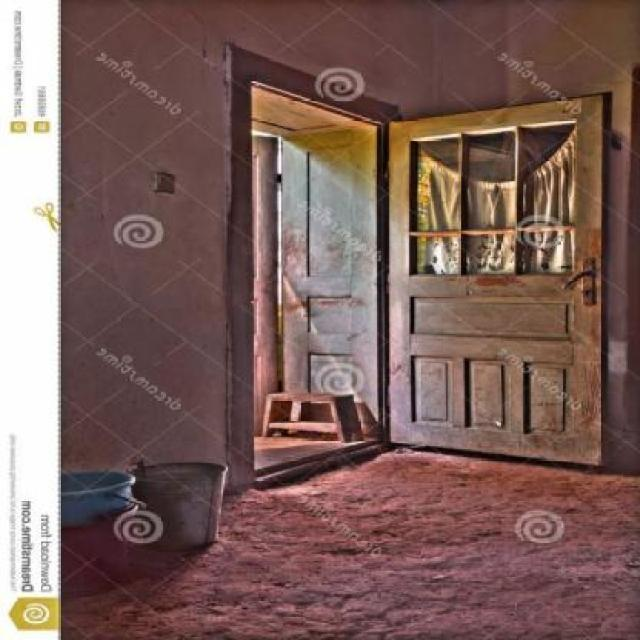door: (226, 41, 614, 489)
